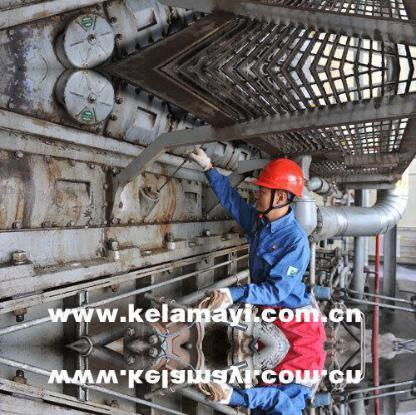helmet: (250, 155, 304, 198)
